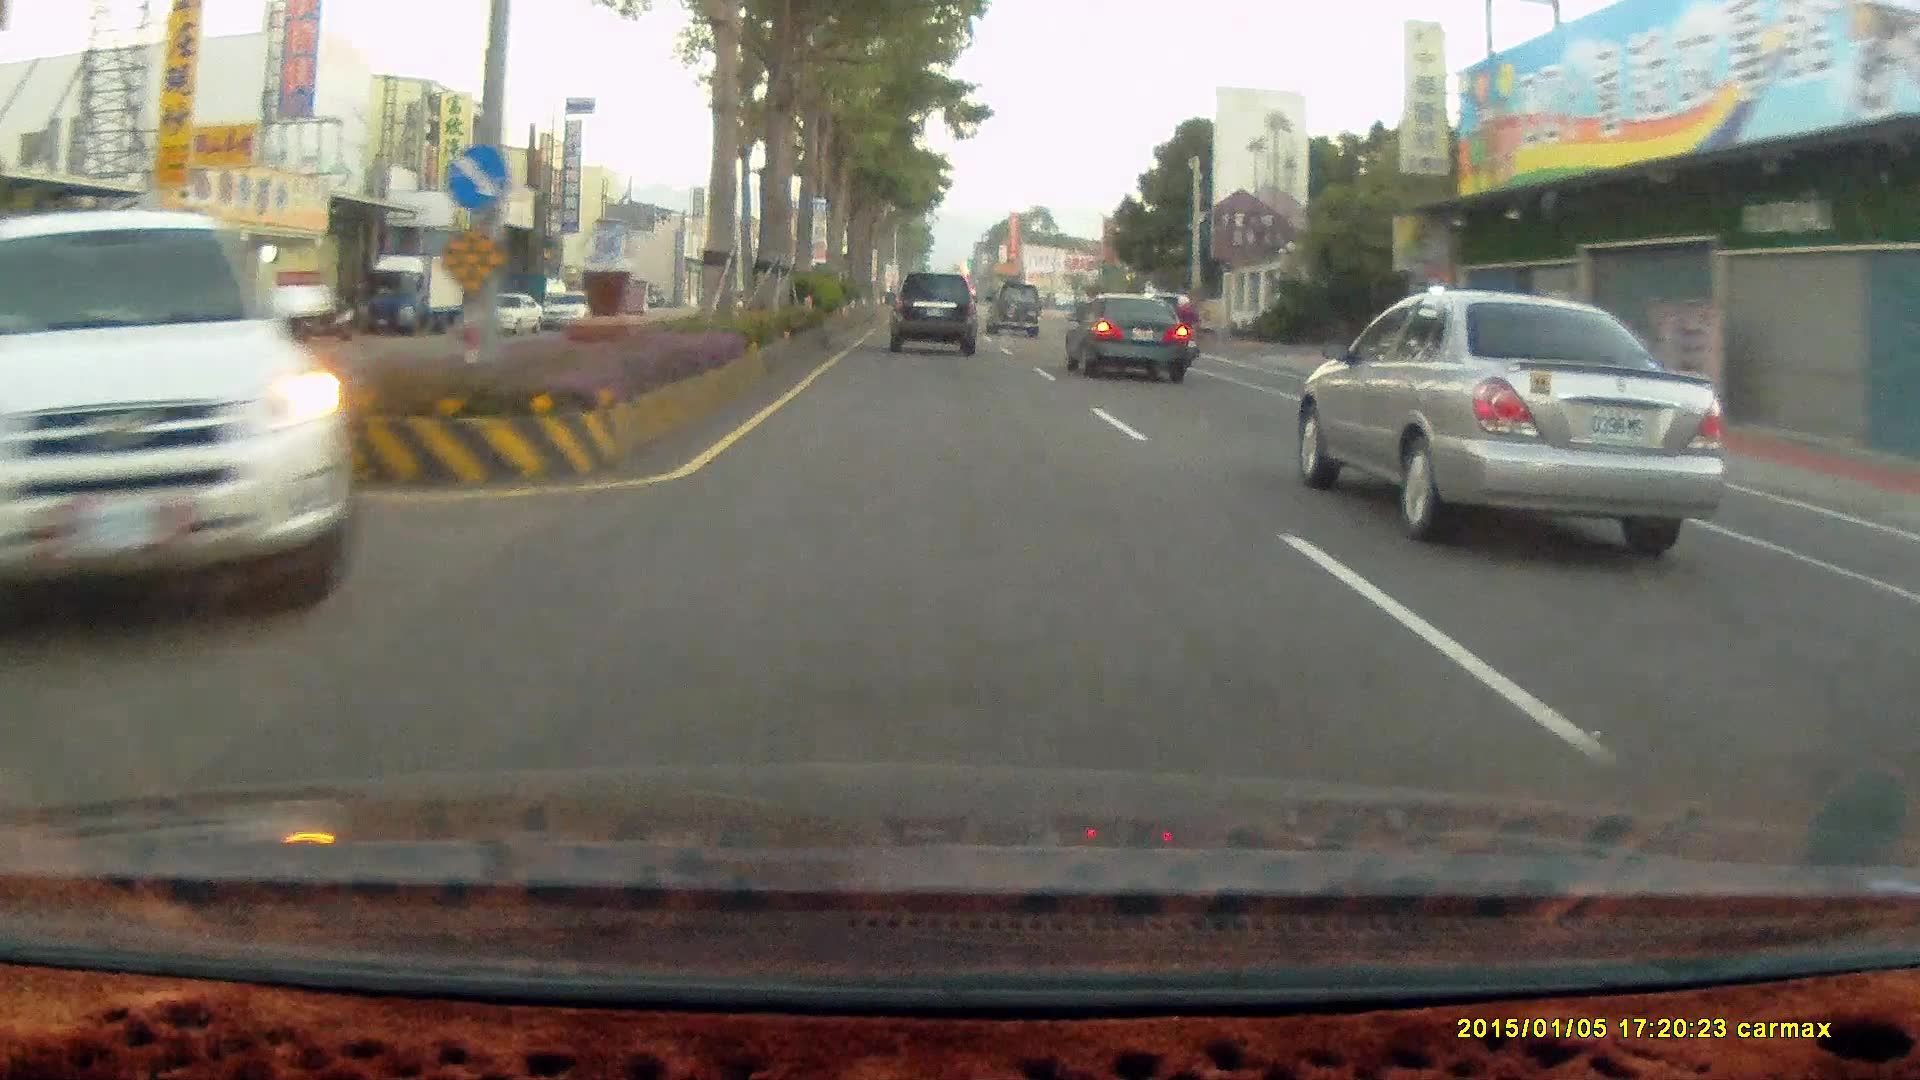rider: (1159, 291, 1203, 367)
vehicle: (0, 208, 352, 633), (6, 208, 345, 628), (1297, 292, 1722, 551), (1062, 294, 1189, 386), (42, 293, 166, 382), (1069, 302, 1198, 388), (368, 255, 468, 339), (365, 251, 466, 334), (887, 269, 983, 356), (889, 272, 977, 356), (985, 285, 1043, 343), (473, 300, 546, 345), (985, 279, 1042, 336), (473, 291, 545, 336)
